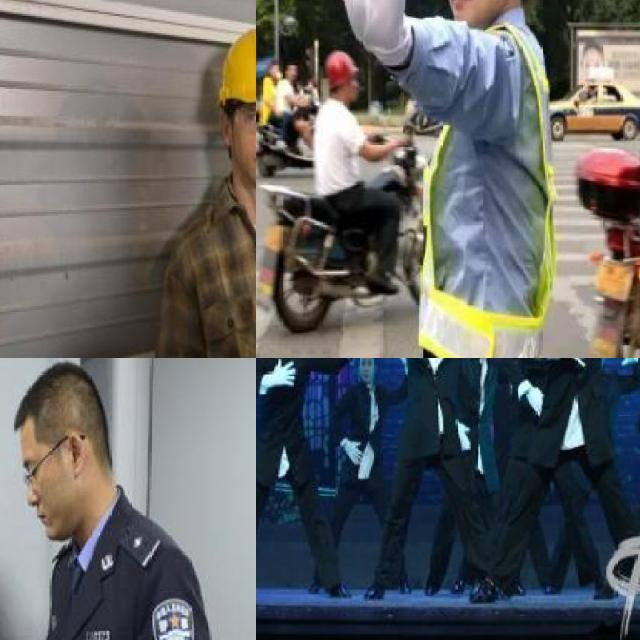face_nomask: (22, 428, 63, 537), (431, 0, 503, 28), (236, 106, 256, 179), (359, 361, 380, 390)
glasses: (232, 104, 256, 140)
hand_glove: (336, 0, 410, 41), (266, 358, 295, 383), (526, 384, 545, 419), (344, 439, 364, 467), (620, 358, 638, 365)
hand_noglove: (396, 132, 410, 146)
head_helmet: (213, 28, 256, 112), (319, 50, 363, 87)
head_nohelmet: (5, 366, 97, 444), (357, 358, 383, 365)
person: (300, 0, 581, 358), (0, 358, 214, 640), (150, 22, 256, 358), (518, 358, 640, 616), (256, 358, 366, 634), (380, 358, 494, 608)
vest: (416, 17, 564, 358)
